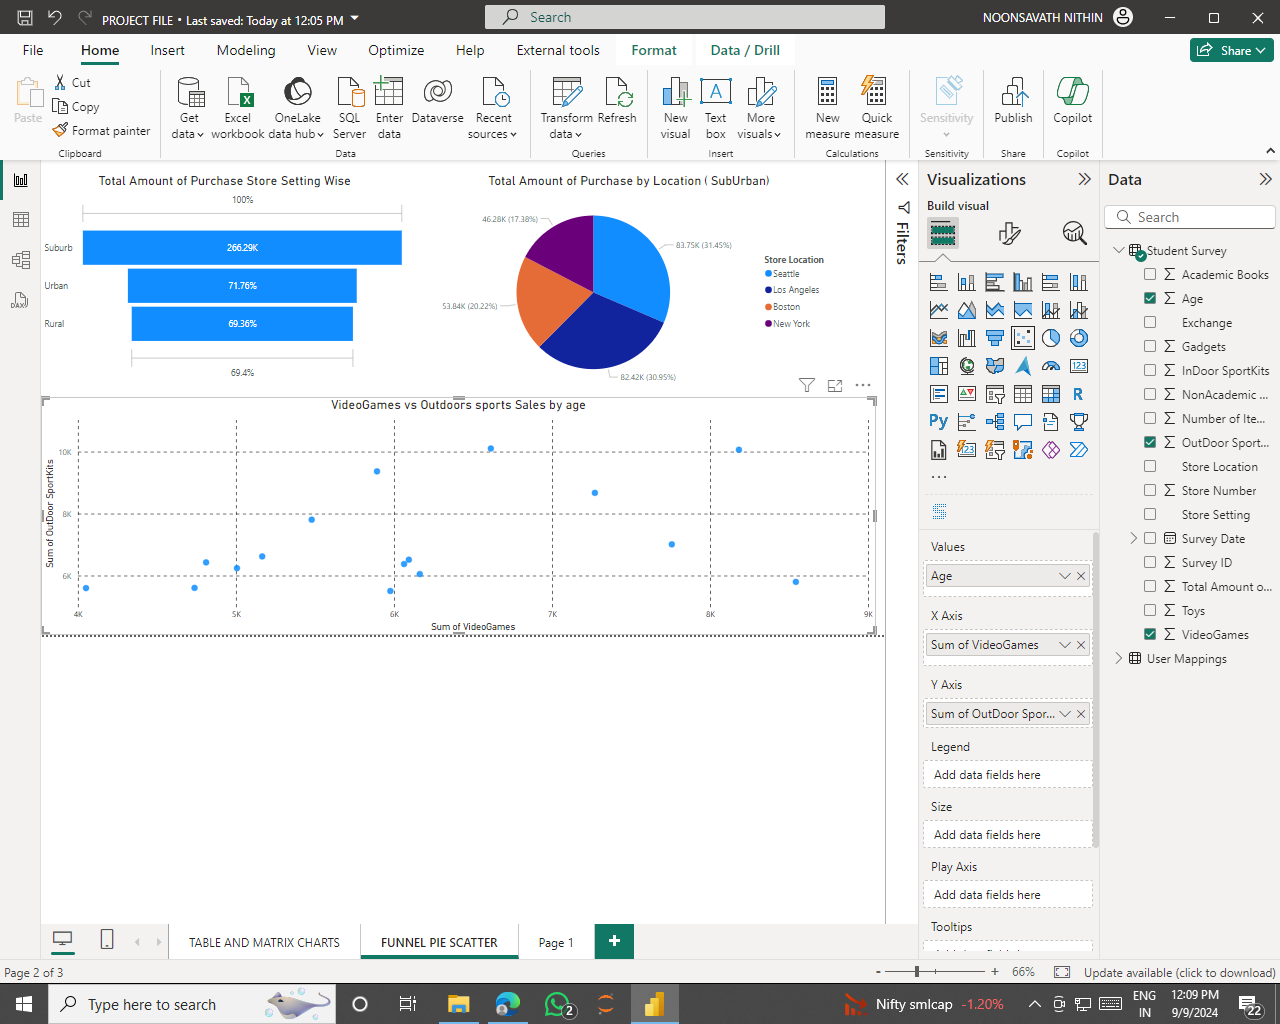

The page's visual inventory and layout, read from the dashboard file:
{"tool":"powerbi","page":{"name":"FUNNEL PIE SCATTER","canvas":[1280,720],"ordinal":1},"visuals":[{"type":"funnel","title":"Total Amount of Purchase Store Setting Wise","fields":{"Y":["Sum(Student Survey.Total Amount of Purchases)"],"Category":["Student Survey.Store Setting"]},"box":[0,19.7,556.6,320],"z":0},{"type":"pieChart","title":"Total Amount of Purchase by Location ( SubUrban)","fields":{"Category":["Student Survey.Store Location"],"Y":["Sum(Student Survey.Total Amount of Purchases)"]},"box":[572.9,20,635.7,340],"z":1000},{"type":"scatterChart","title":"VideoGames vs Outdoors sports Sales by age","fields":{"X":["Sum(Student Survey.VideoGames)"],"Y":["Sum(Student Survey.OutDoor SportKits)"],"Category":["Student Survey.Age"]},"box":[0,359.4,1266.4,360.9],"z":2000}]}

Visuals, with their boxes on the page's 1280x720 design canvas (x1, y1, x2, y2). These are canvas units, not pixel positions in the 1280x1024 screenshot, which may show the page scaled, cropped or inside an application window:
"Total Amount of Purchase Store Setting Wise" funnel: <region>0, 20, 557, 340</region>
"Total Amount of Purchase by Location ( SubUrban)" pieChart: <region>573, 20, 1209, 360</region>
"VideoGames vs Outdoors sports Sales by age" scatterChart: <region>0, 359, 1266, 720</region>
